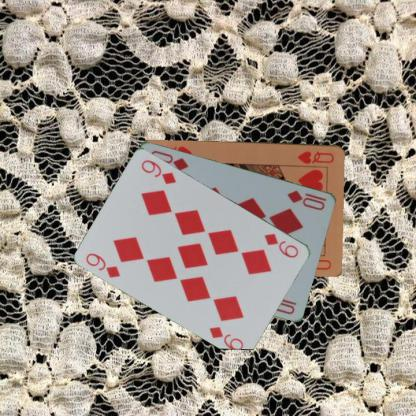10d: (285, 187, 328, 212)
9d: (262, 230, 300, 260), (83, 250, 122, 279)
Qh: (295, 148, 335, 165)
